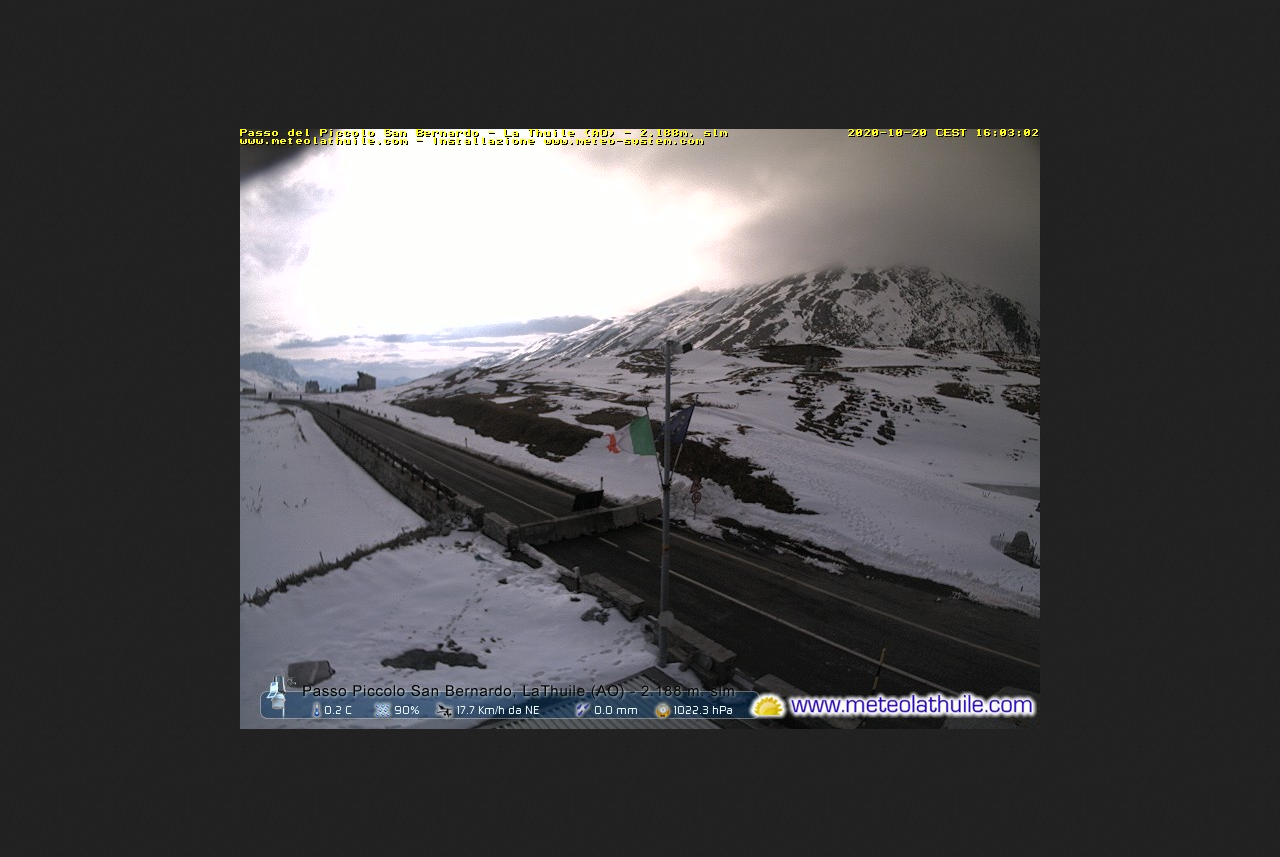yes: (603, 413, 657, 457), (654, 406, 697, 444)
